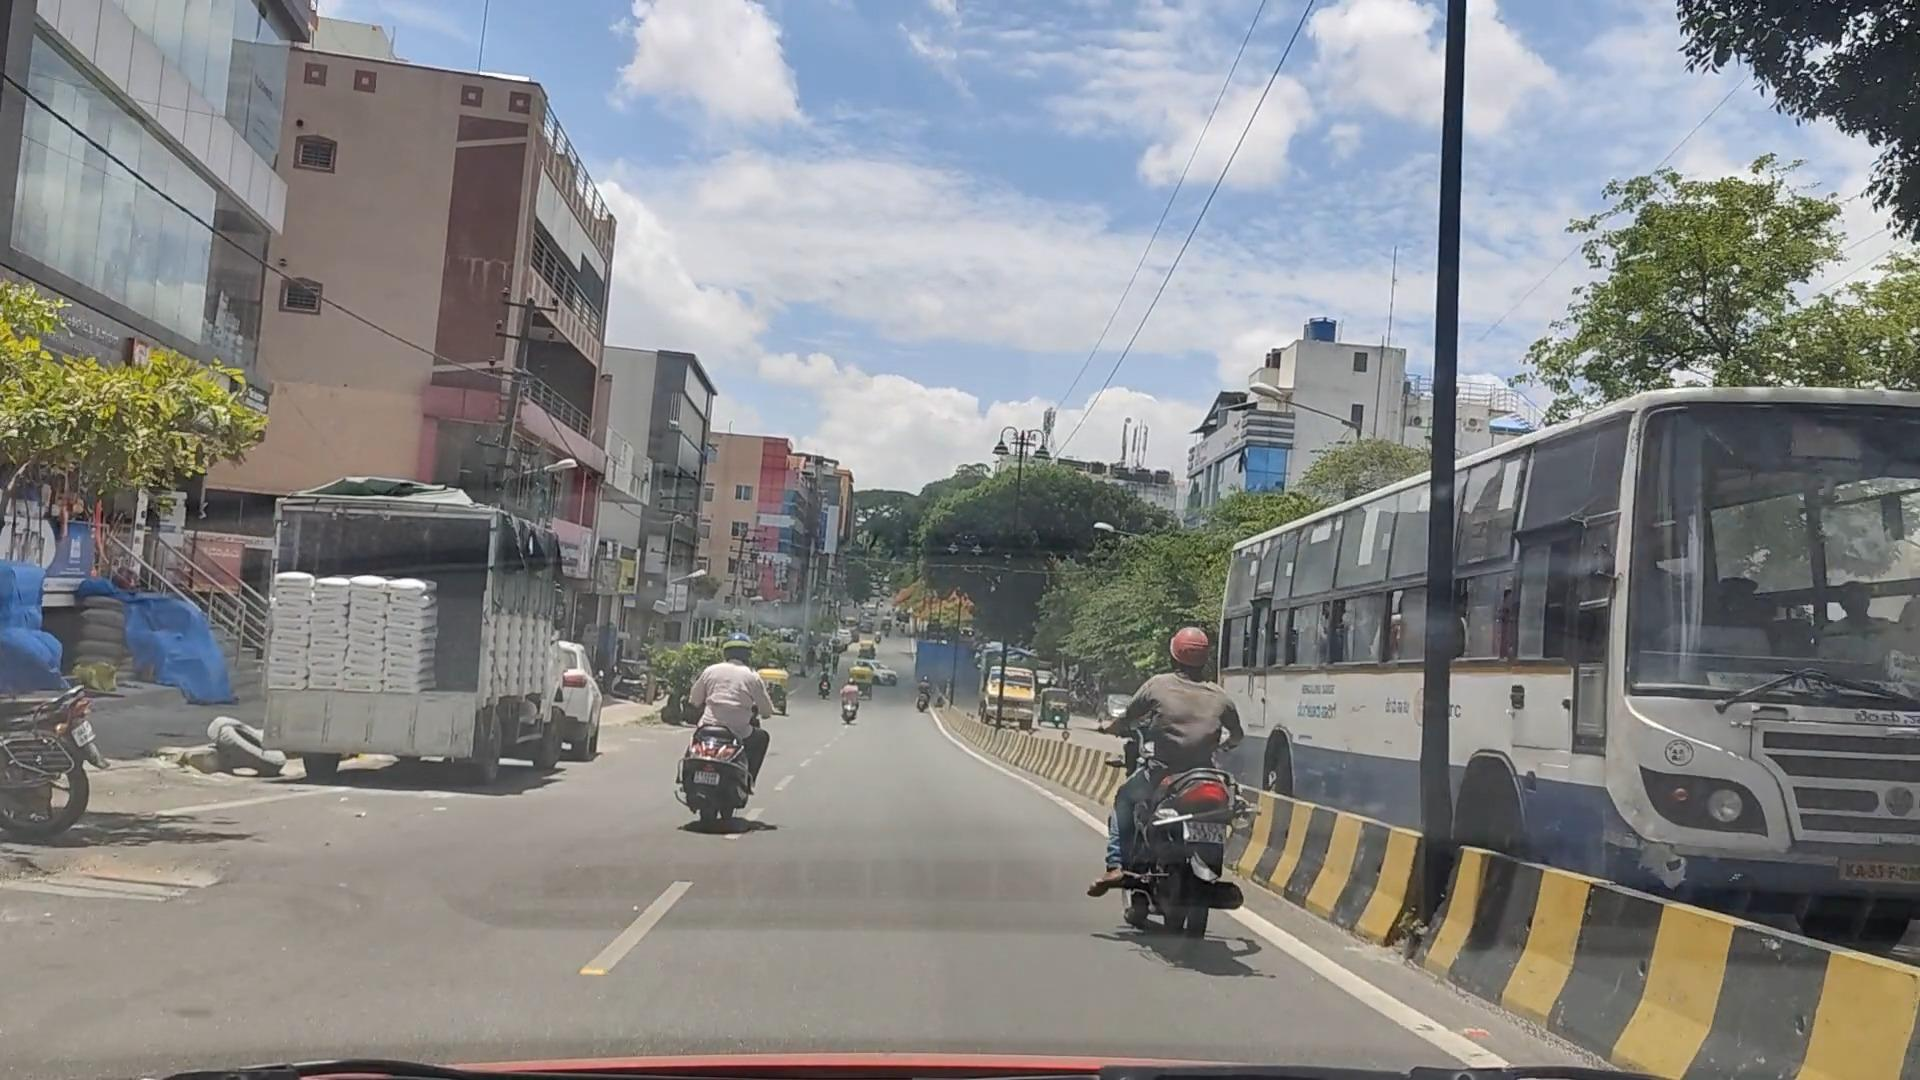HMV: (243, 446, 621, 798)
LMV: (1058, 636, 1255, 964), (686, 641, 769, 832)
